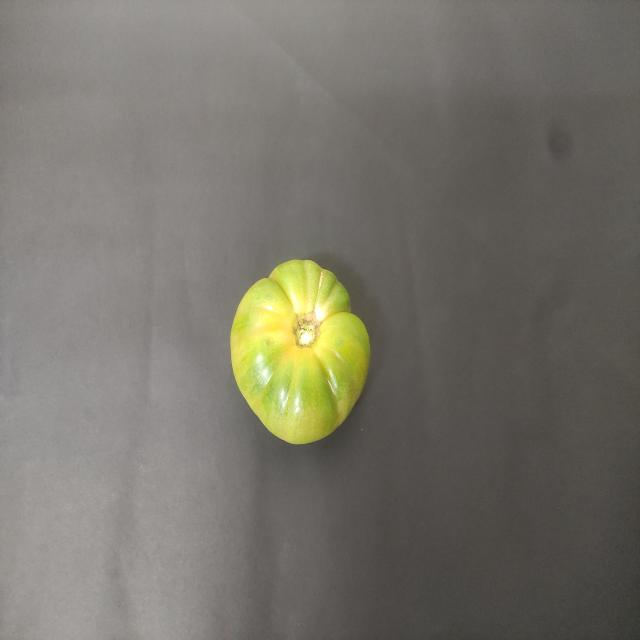unripe tomato: (219, 247, 386, 450)
